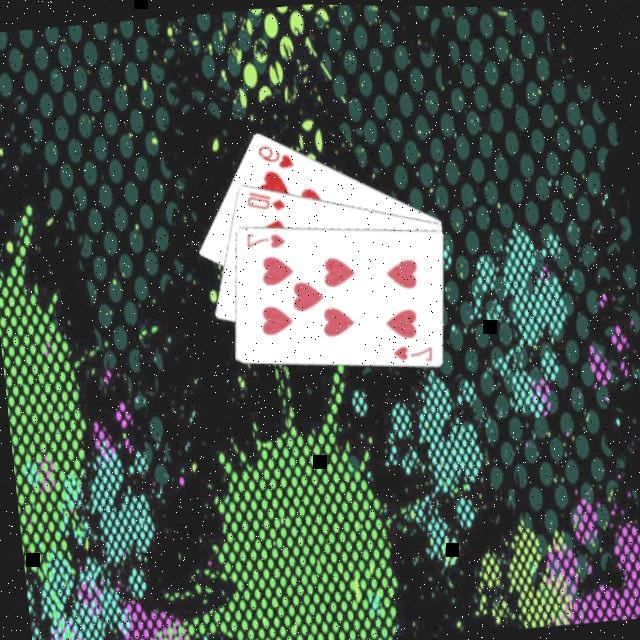10D: (241, 186, 287, 217)
7H: (388, 339, 434, 368), (240, 227, 288, 254)
9H: (252, 138, 296, 174)
